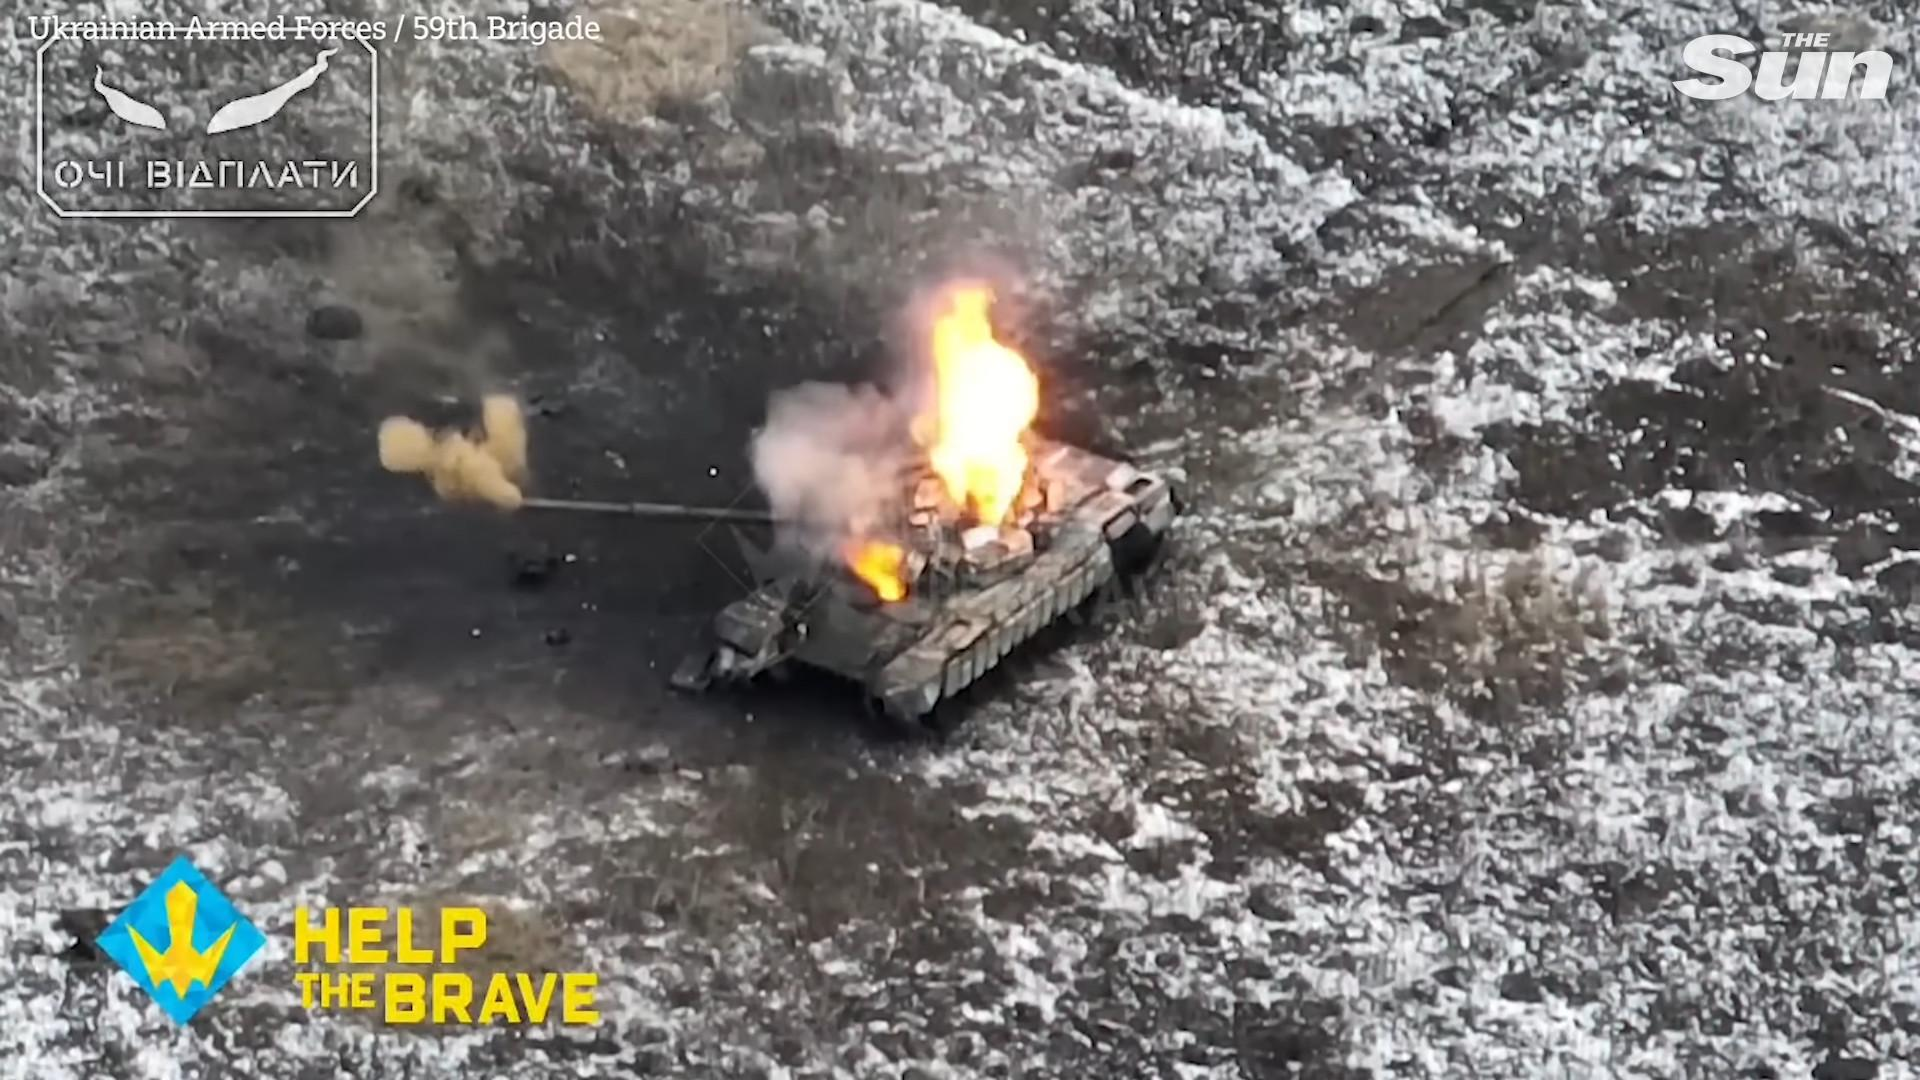tank: (522, 425, 1187, 736)
